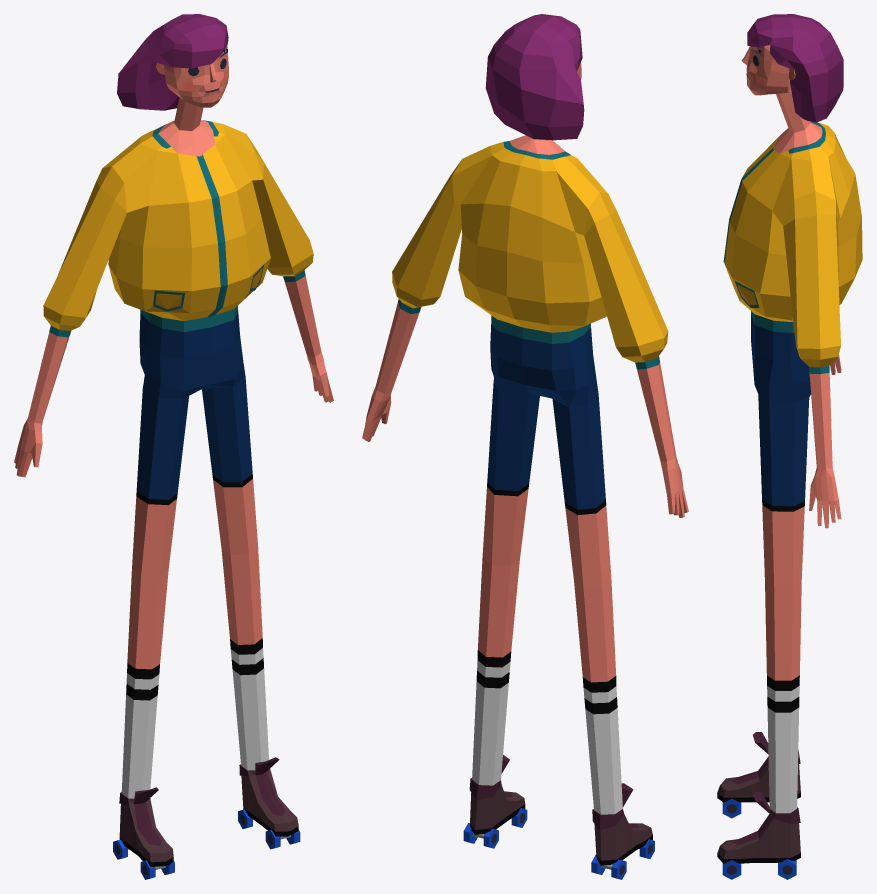
File: human_06.obj
3 views of the same model, side by side, from view 1: azimuth 30°, elevation 25°; view 2: azimuth 150°, elevation 25°; view 3: azimuth 270°, elevation 25° (orthographic). The views are drawn at different scales.
Visible parts, largest first — view 1: Cube_Cube.002, Cube.001_Cube.004; view 2: Cube_Cube.002, Cube.001_Cube.004; view 3: Cube_Cube.002, Cube.001_Cube.004, Cylinder.001_Cylinder.009.
Boxes of the visible parts, x1,y1,x2,y2 form: Cube_Cube.002: [14, 46, 333, 866]; Cube.001_Cube.004: [117, 14, 228, 110]; Cube_Cube.002: [362, 62, 688, 865]; Cube.001_Cube.004: [485, 14, 584, 140]; Cube_Cube.002: [717, 45, 862, 863]; Cube.001_Cube.004: [747, 14, 843, 122]; Cylinder.001_Cylinder.009: [778, 859, 796, 879].
Size of the model in its own units: 0.9043 by 2.27 by 0.3619.
1 material, 1 textured.
